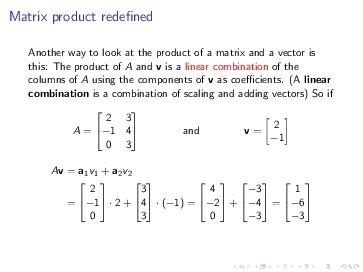paragraph: (27, 41, 348, 237)
title: (8, 5, 159, 30)
